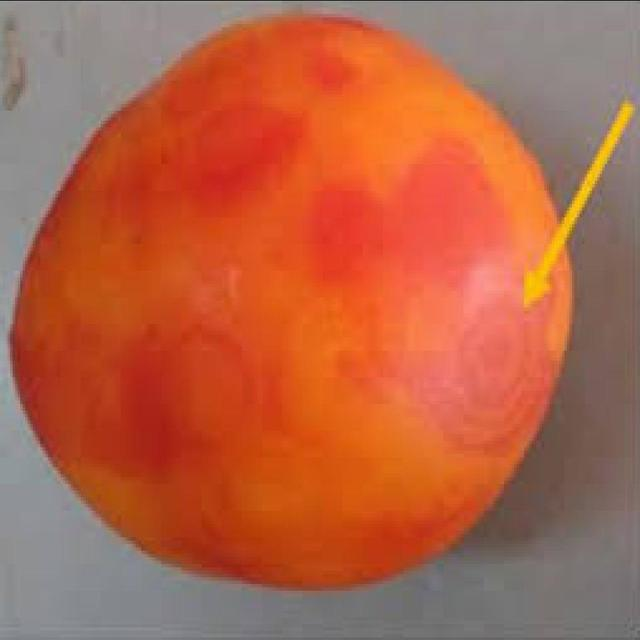Spotted wilt Virus Fruit: (180, 94, 553, 239)
